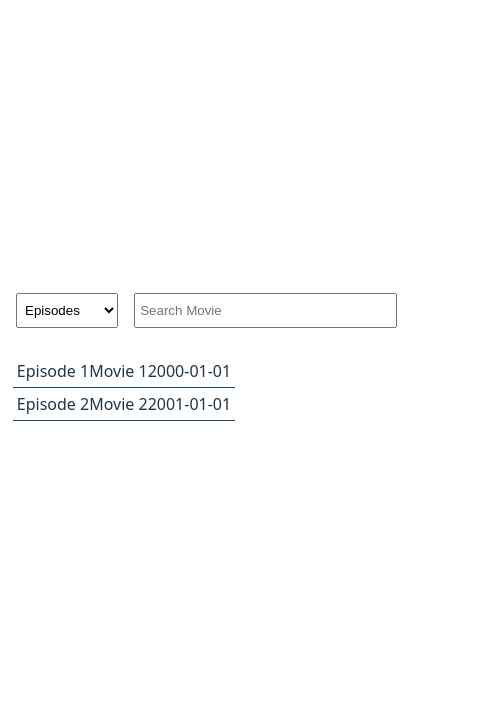
Test: Movies Component › should display selected movie details
The image size is (492, 720).
Click the text "Movie 1" at [118, 371], box [89,359,148,383]
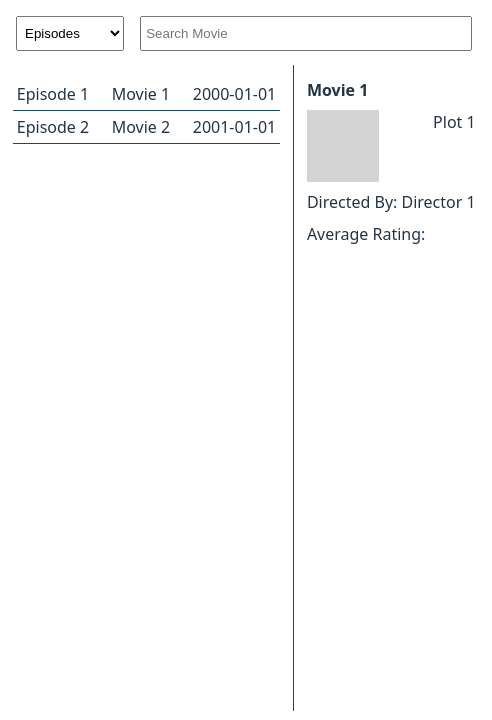
Check: the text "Directed By: Director 1" is shown, box [307,190,476,214]
